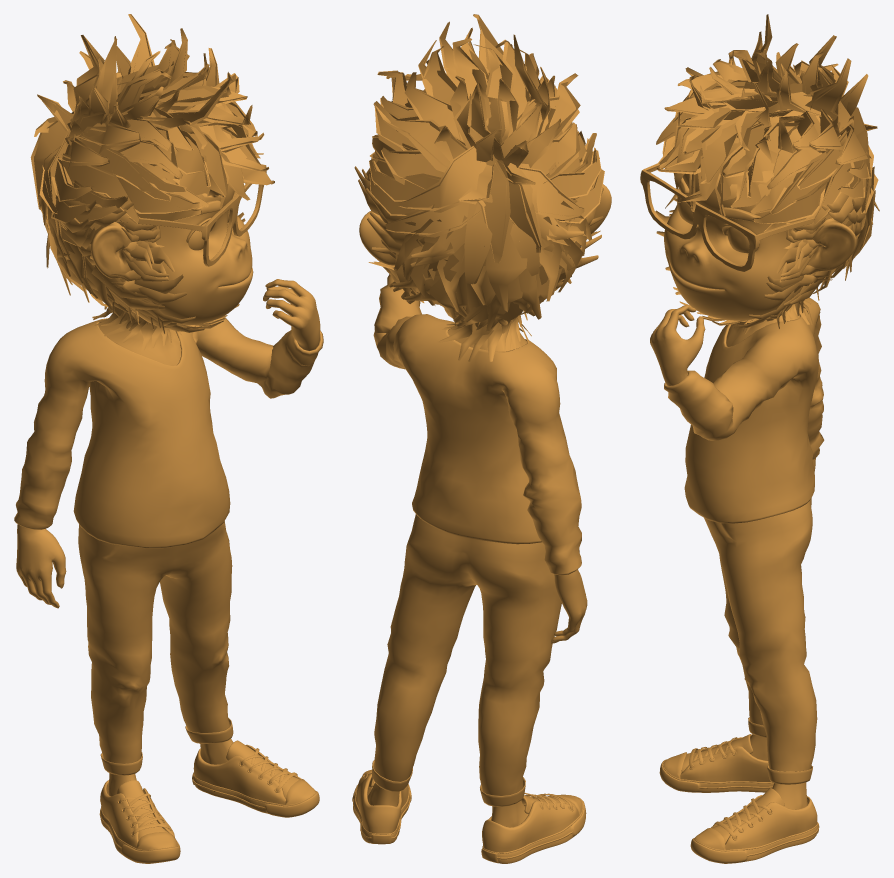
The model's file is Kimbo_Estatua.fbx.
3 renders of one model, left to right at view 1: azimuth 30°, elevation 25°; view 2: azimuth 150°, elevation 25°; view 3: azimuth 270°, elevation 25°, orthographic. The views are drawn at different scales.
Parts seen in each view (by area): view 1: Kimbo_Estatua; view 2: Kimbo_Estatua; view 3: Kimbo_Estatua.
Part boxes in pixels (x1,y1,x2,y2): Kimbo_Estatua: (14, 14, 323, 863); Kimbo_Estatua: (352, 14, 611, 863); Kimbo_Estatua: (640, 14, 879, 863).
Bounding box in the file's own units: 44.73 × 133 × 37.39.
